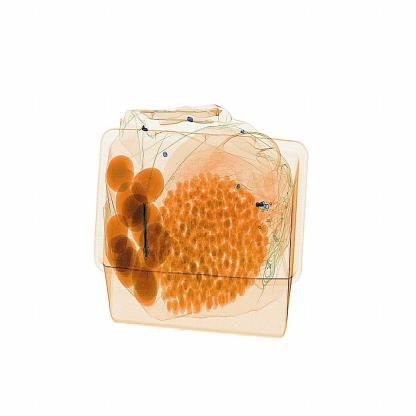knife: (135, 190, 164, 268)
